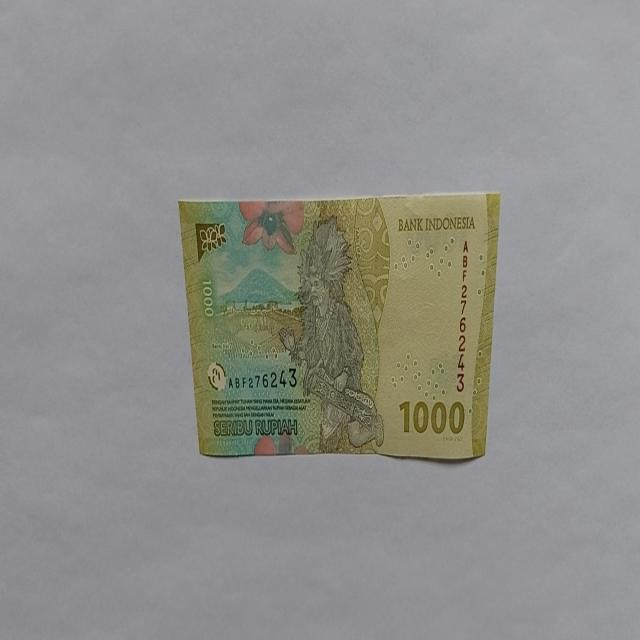seribu rupiah kertas: (177, 191, 501, 461)
